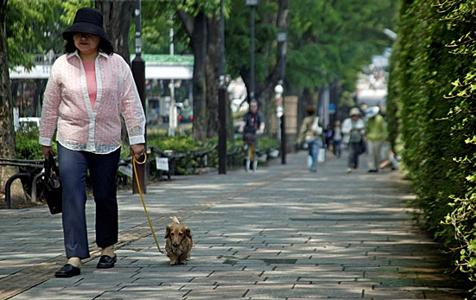person: (39, 8, 147, 279)
